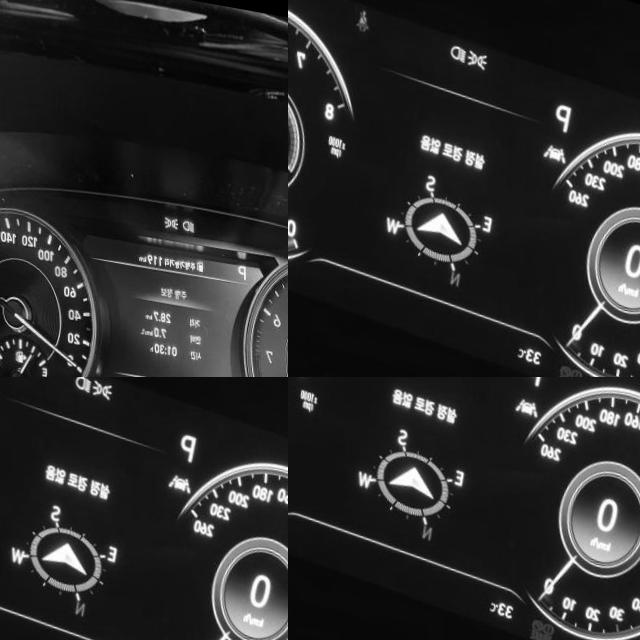LaneCenteringOff: (543, 124, 568, 146), (168, 454, 193, 476), (515, 378, 540, 400)
Low beam: (449, 29, 469, 51), (181, 207, 195, 220)
SideLamp: (466, 31, 491, 58), (91, 377, 115, 388), (164, 203, 178, 219)
